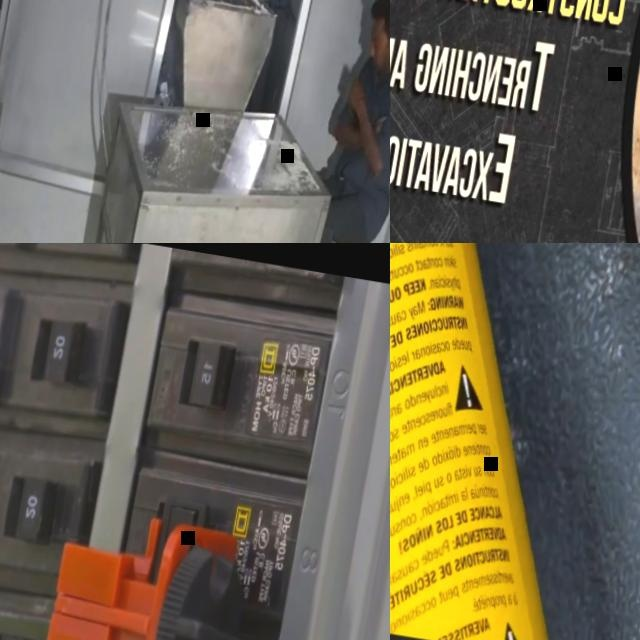NO-Hardhat: (368, 0, 390, 33)
NO-Mask: (371, 49, 390, 73)
NO-Safety Vest: (329, 59, 390, 193)
Person: (284, 0, 390, 243)
